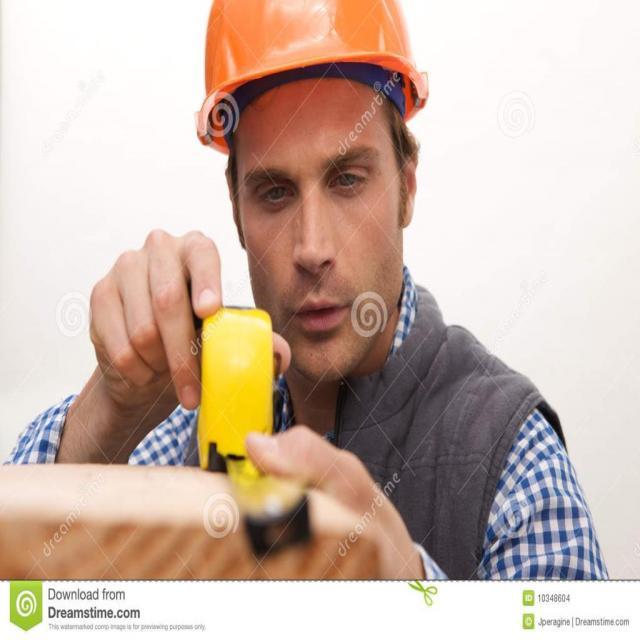nomask: (244, 71, 388, 360)
